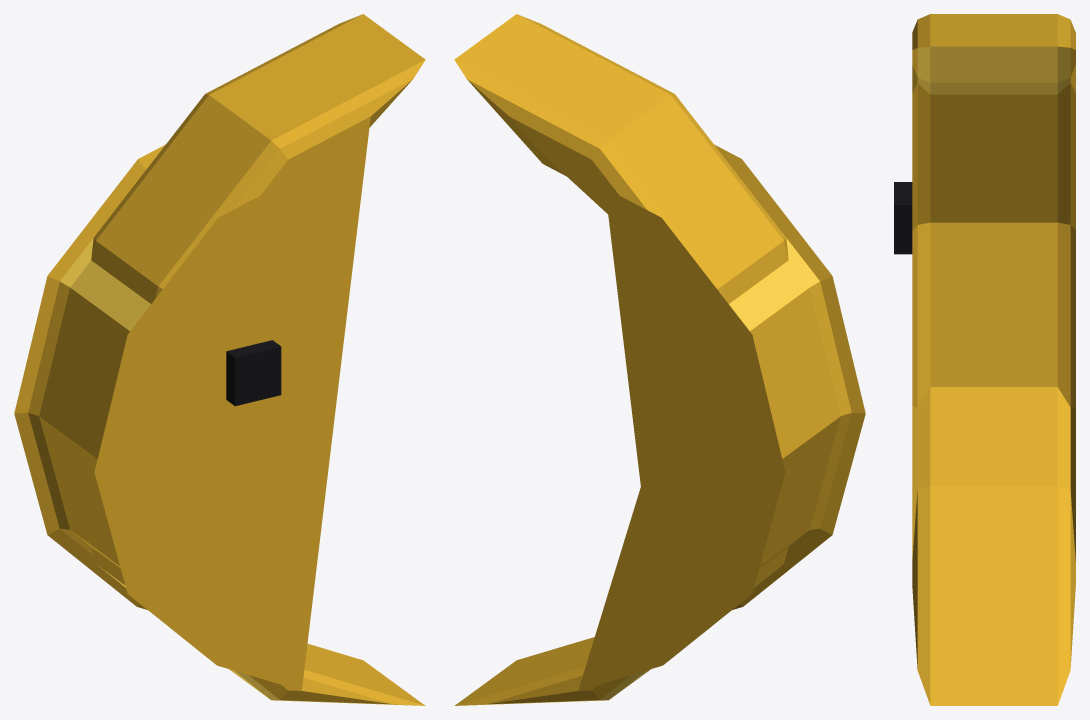
The model's file is Moon.fbx.
3 renders of one model, left to right at view 1: azimuth 30°, elevation 25°; view 2: azimuth 150°, elevation 25°; view 3: azimuth 270°, elevation 25°, orthographic. The views are drawn at different scales.
Parts seen in each view (by area): view 1: Moon; view 2: Moon; view 3: Moon.
Part boxes in pixels (x1,y1,x2,y2): Moon: (14, 14, 425, 705); Moon: (454, 14, 865, 705); Moon: (894, 14, 1075, 705).
Bounding box in the file's own units: 2.2 × 4 × 1.
Materials: 1 (1 with a texture image).
